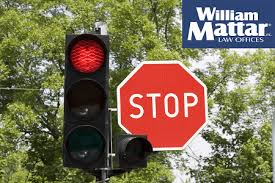SS: (116, 59, 208, 150)
